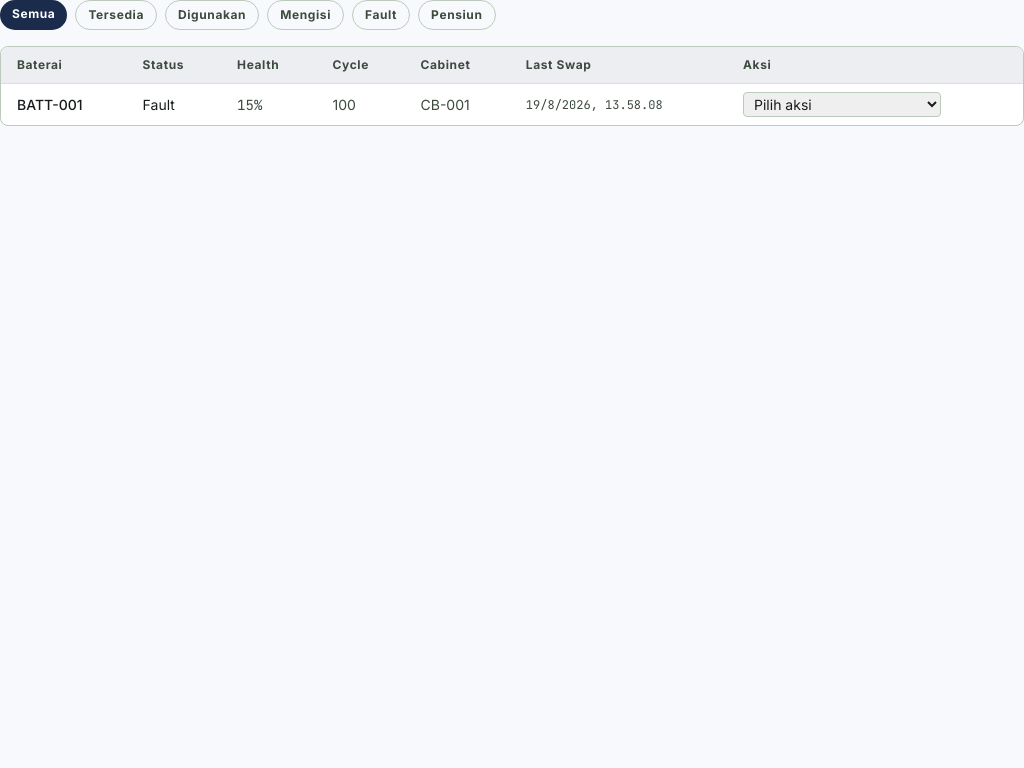
Test case: BatteryMaintenanceTable › should cancel battery action
The width and height of the screenshot is (1024, 768).
Expected: the text "BATT-001" is shown, left=1, top=84, right=127, bottom=125
Select "Reactivasi → AVAILABLE" in the dropdown at x=842, y=104, box left=743, top=92, right=941, bottom=117
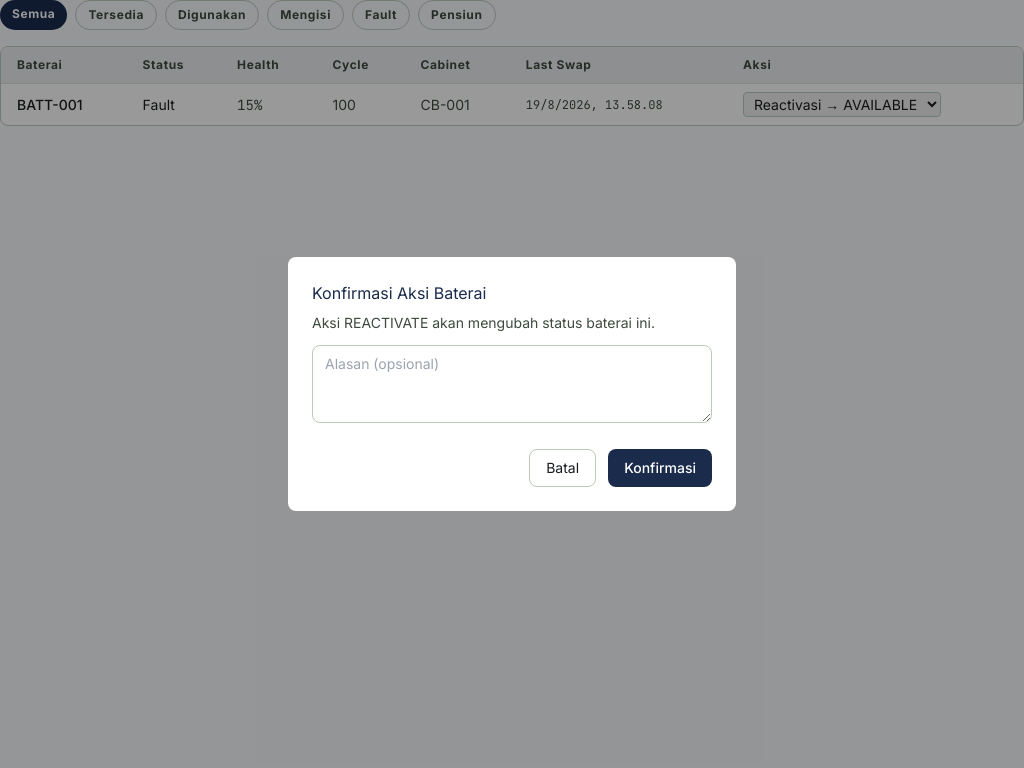
Expected: the heading "Konfirmasi Aksi Baterai" is shown, left=312, top=283, right=486, bottom=303
Click the button "Batal" at x=563, y=468, box left=529, top=449, right=596, bottom=487
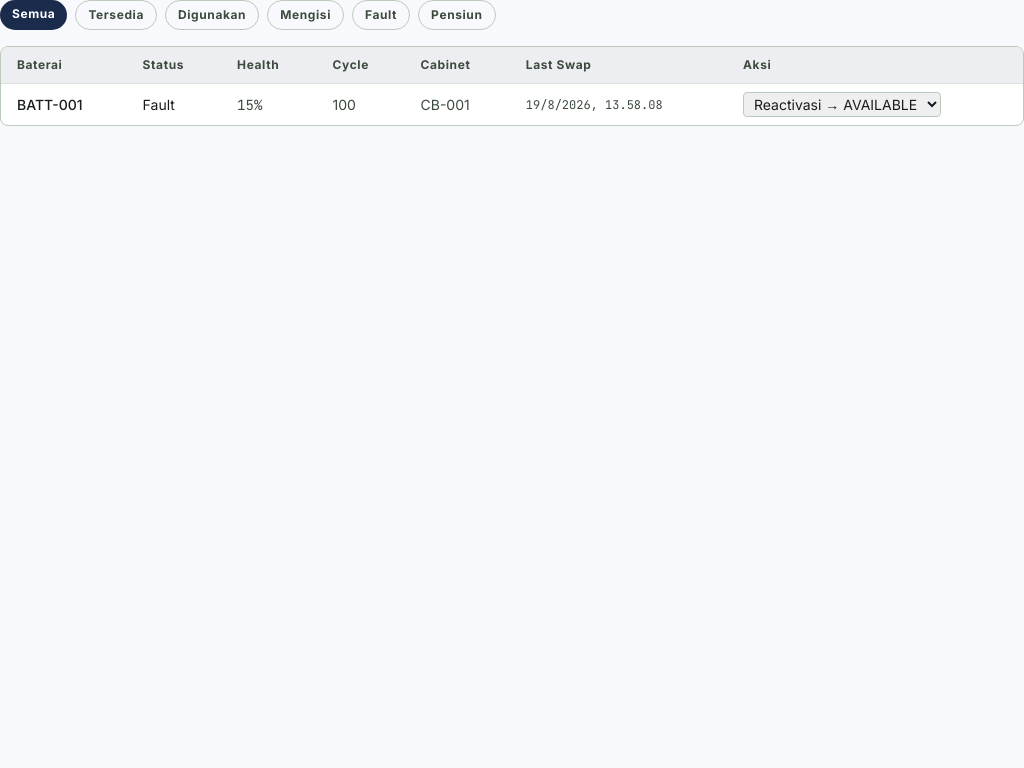
Expected: the heading "Konfirmasi Aksi Baterai" is gone
